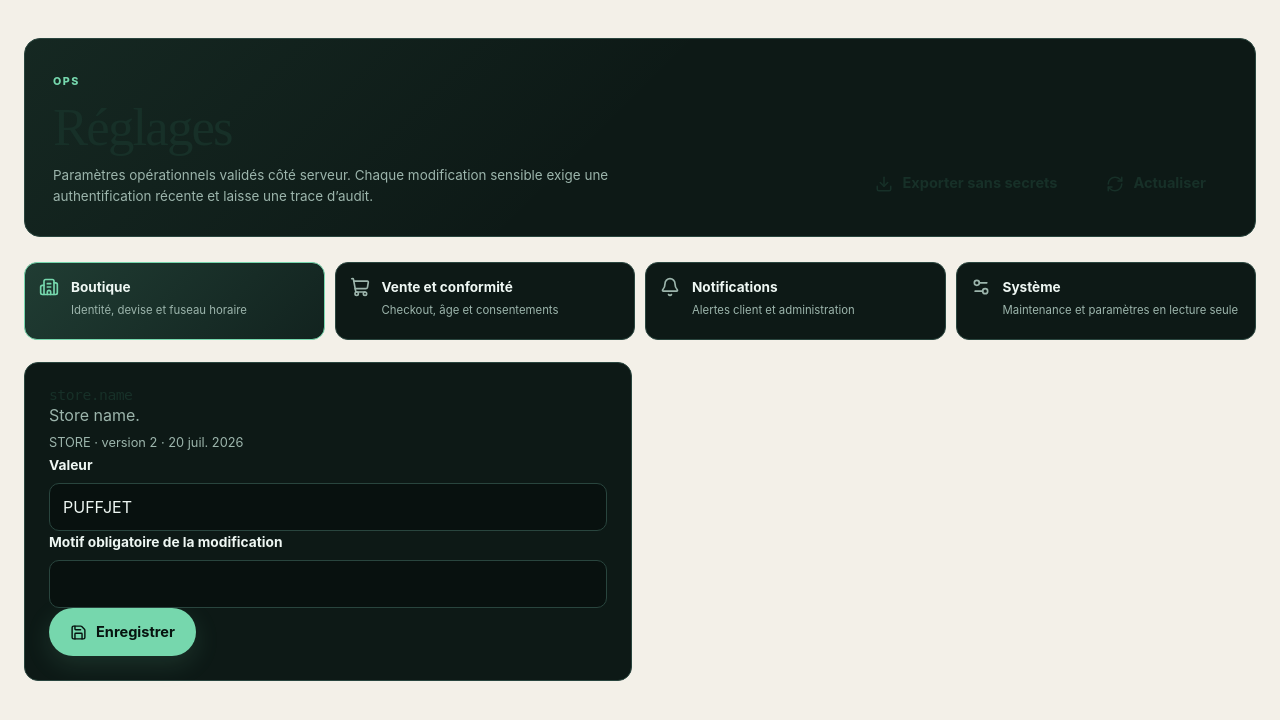
Test: administrator settings transfer › does not send an unchanged value and explains that no save is needed
Type "Vérification" into the field labelled "Motif obligatoire de la modification". click: (328, 584)
box: 49,560 -> 607,608
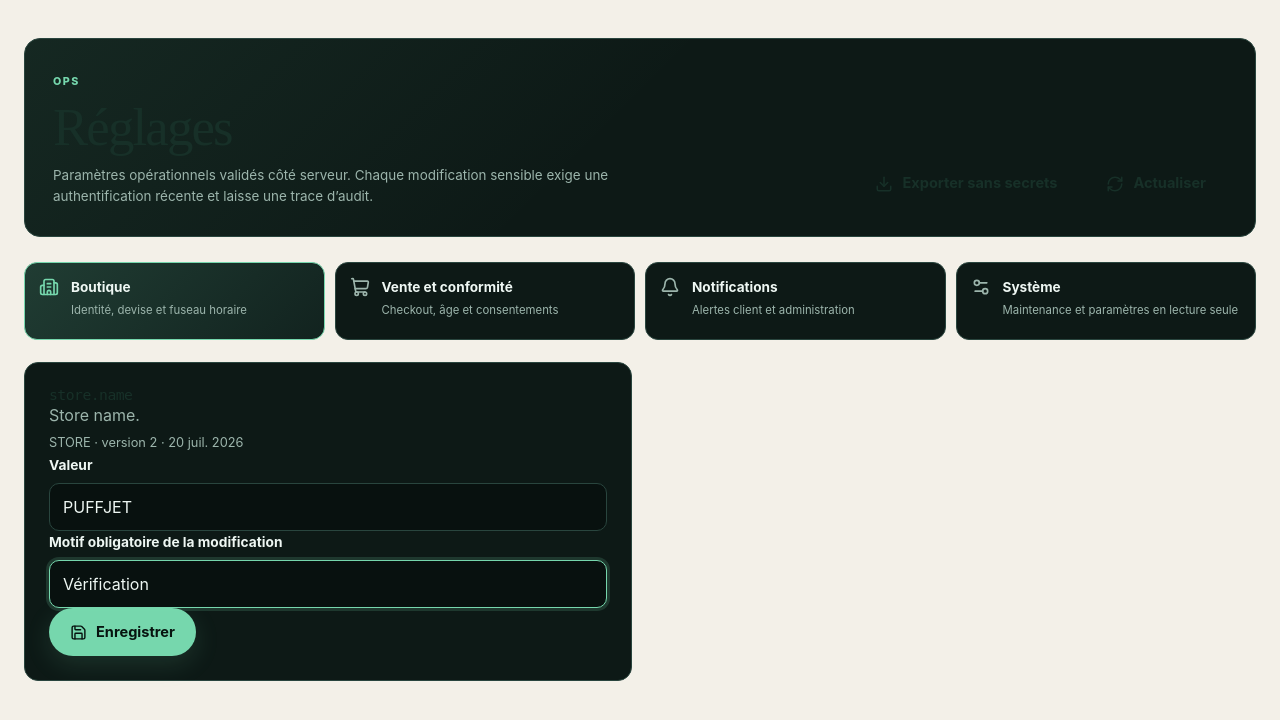
Click the button "Enregistrer". click: (122, 632)
box: 49,608 -> 196,656
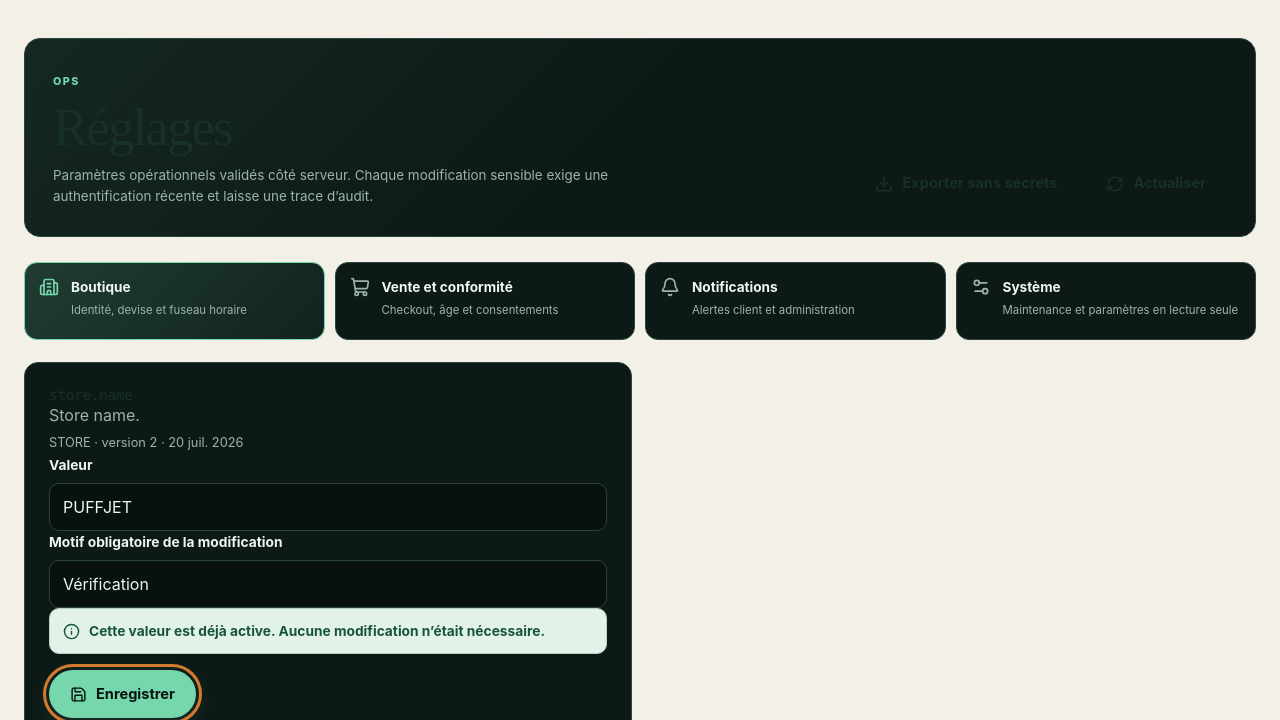
Expected: the text "Cette valeur est déjà active. Aucune modification n’était nécessaire." is shown, 89,620 -> 545,642
